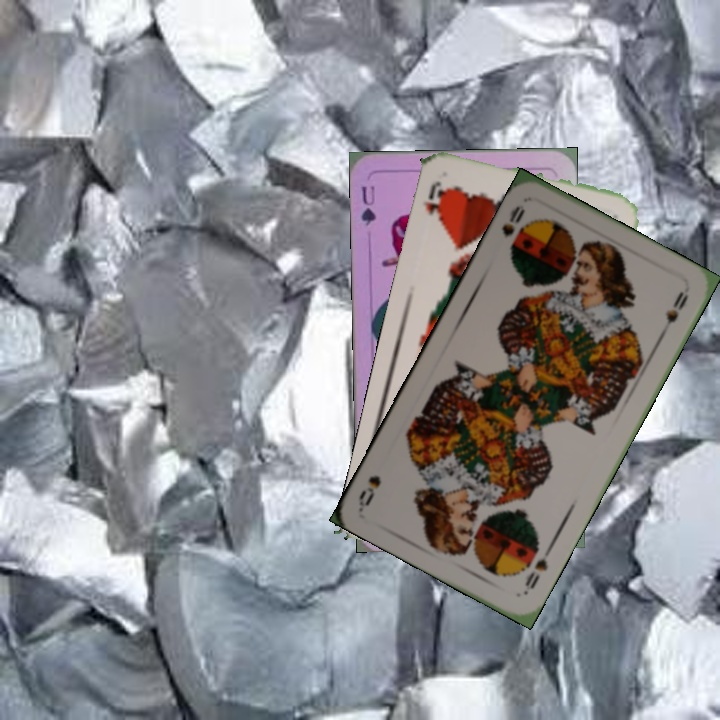GU: (357, 181, 379, 228)
HO: (419, 177, 449, 224)
SO: (521, 542, 555, 592), (497, 200, 528, 240)
